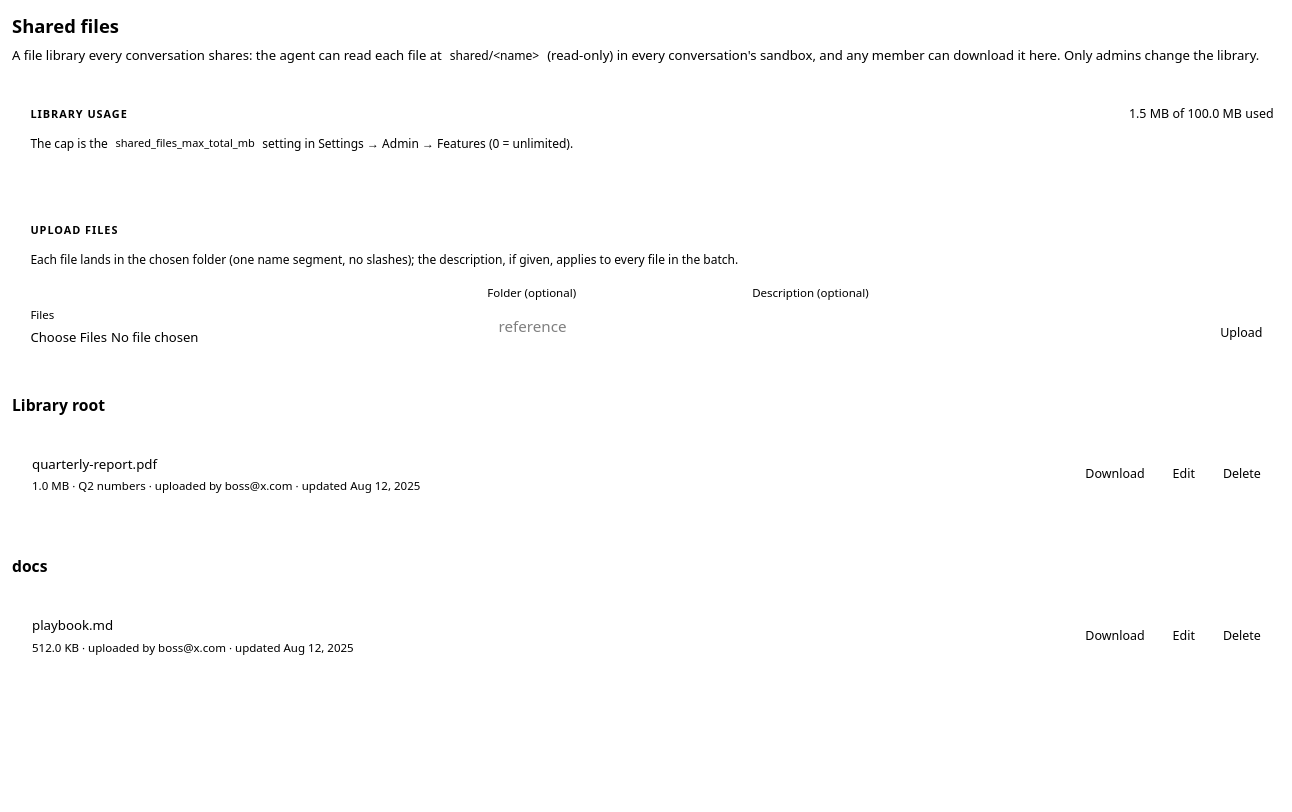
Test: SharedFilesPage › renames via PATCH carrying only the changed name
Click the button with test id "edit-f-report". click: (1184, 475)
box: [1161,461,1206,489]
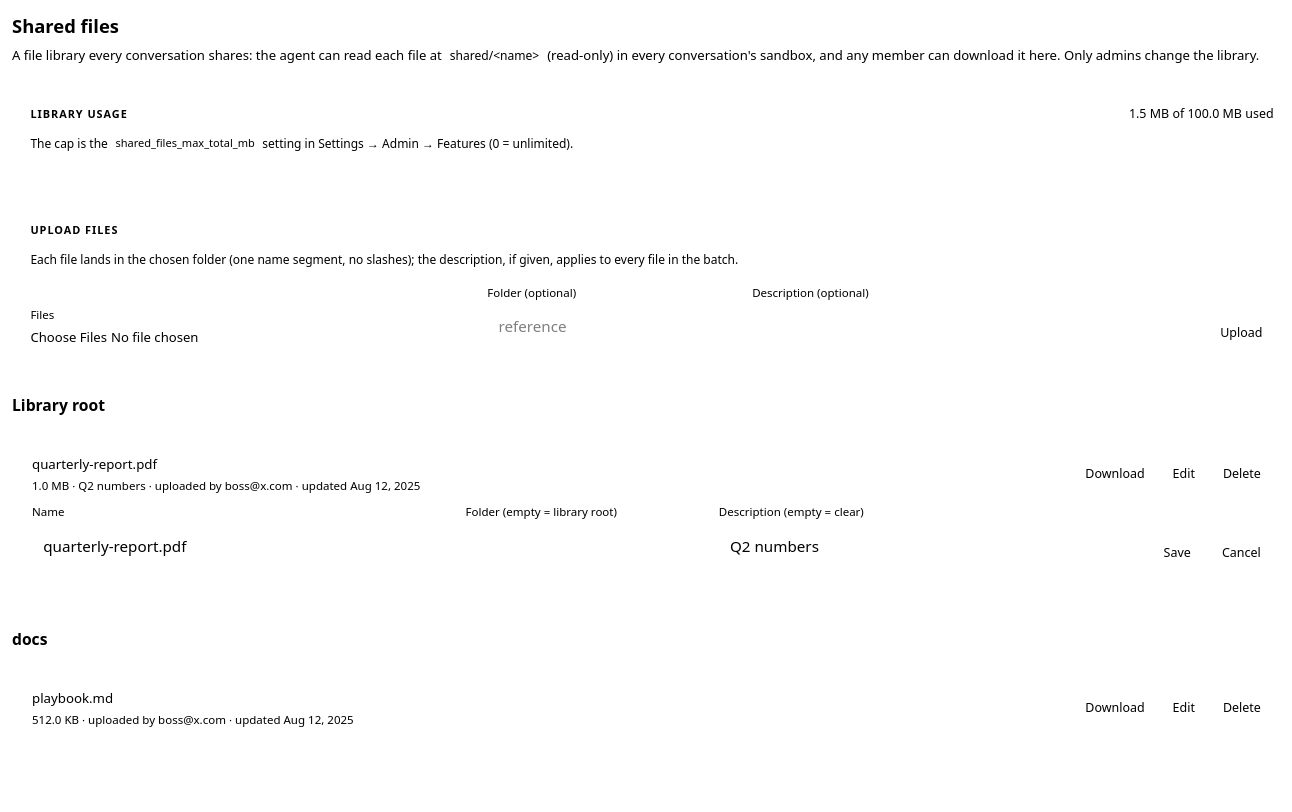
Replace the text in the field with test id "edit-name-f-report" with "renamed.pdf". click: (244, 546)
box: [32,525,457,567]
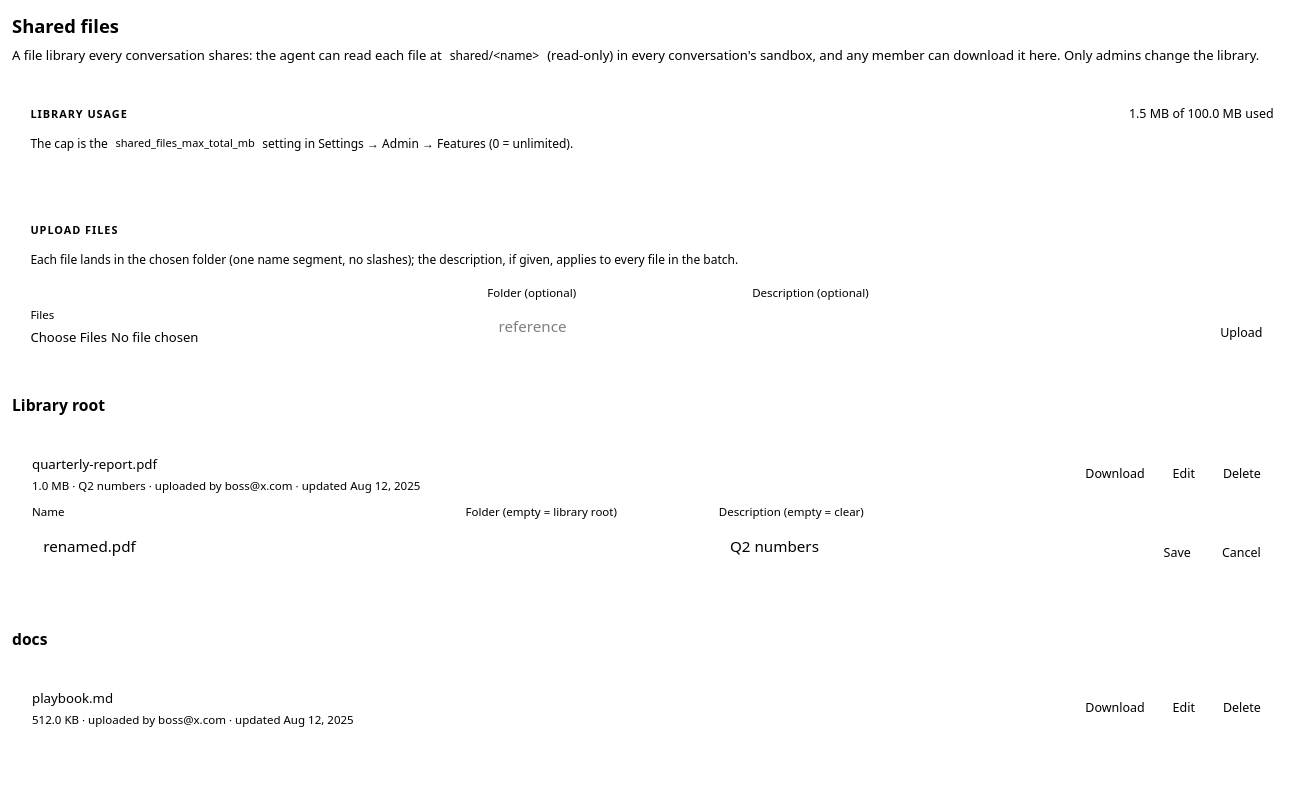
Click the button with test id "save-edit-f-report". click: (1177, 553)
box: [1152,539,1202,567]
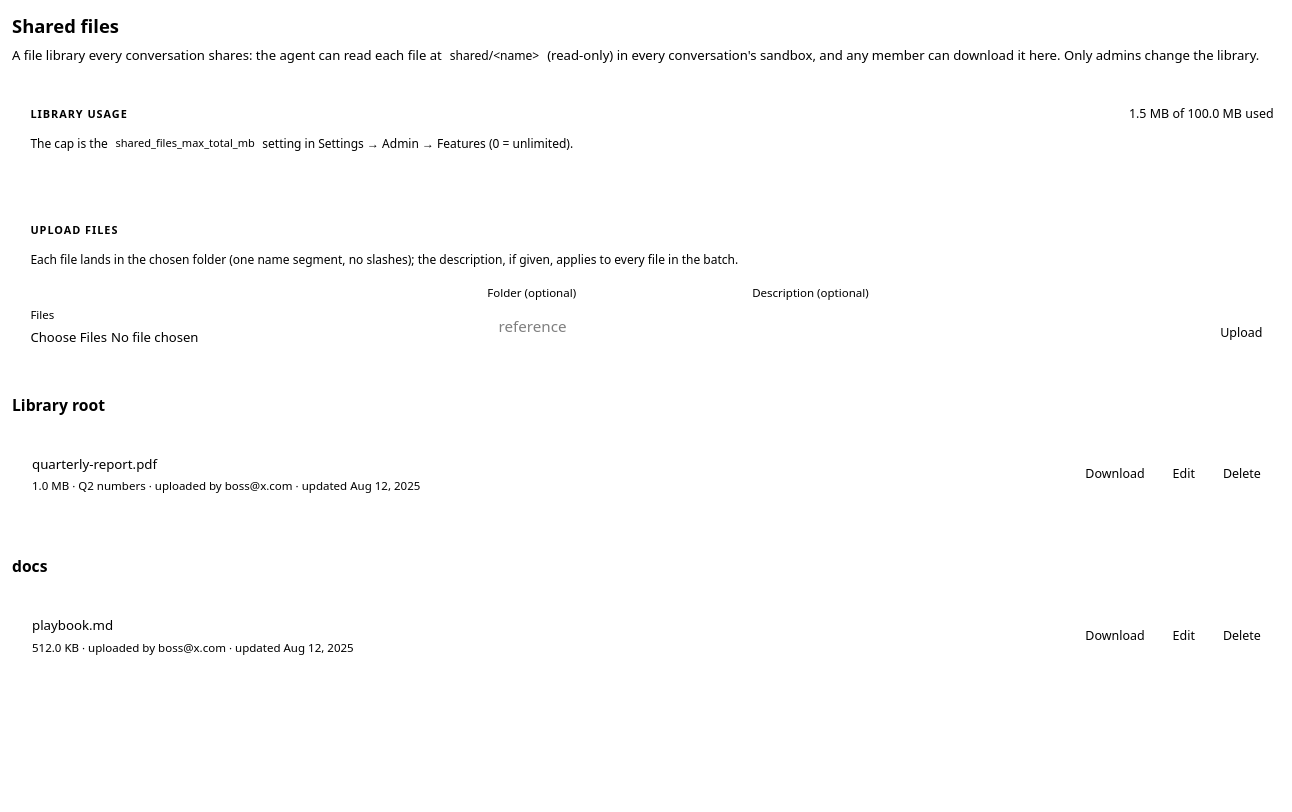
Now the field with test id "edit-name-f-report" is gone
